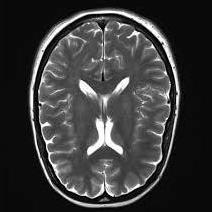Normal_Brain: (18, 1, 196, 212)
